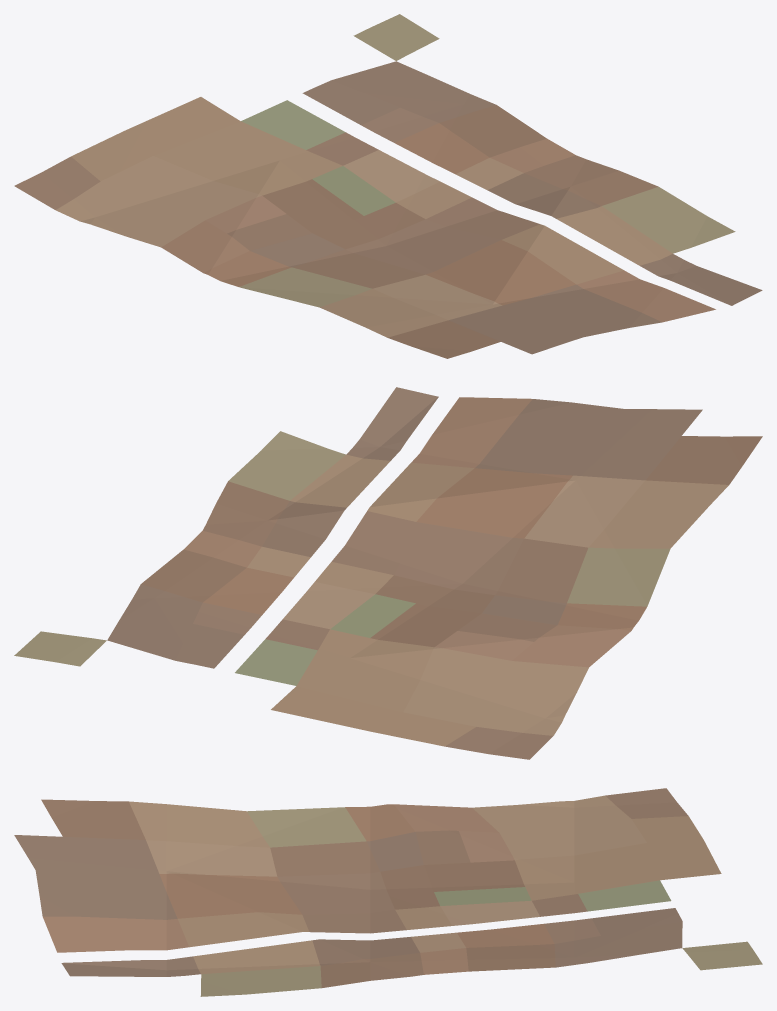
The model's file is farm_30_21_soil.glb.
The picture shows the model from 3 angles, top to bottom: view 1: azimuth 30°, elevation 25°; view 2: azimuth 150°, elevation 25°; view 3: azimuth 270°, elevation 25°; orthographic projection. The views are drawn at different scales.
Visible parts, largest first — view 1: geometry_0; view 2: geometry_0; view 3: geometry_0.
Boxes of the visible parts, x1,y1,x2,y2 form: geometry_0: [14, 14, 762, 358]; geometry_0: [14, 387, 762, 759]; geometry_0: [14, 788, 762, 996].
Size of the model in its own units: 208 by 18.57 by 294.
